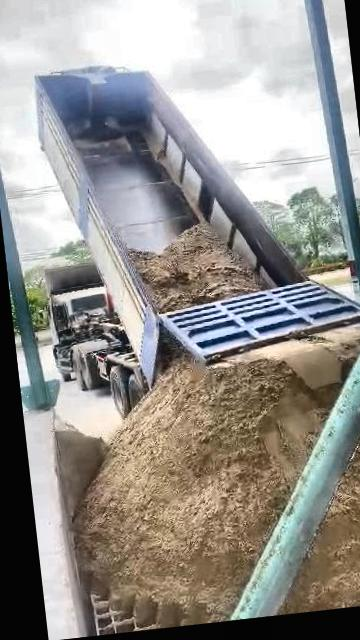sand: (75, 329, 339, 627), (284, 401, 360, 613), (131, 224, 263, 312), (227, 323, 360, 391), (57, 428, 107, 518)
